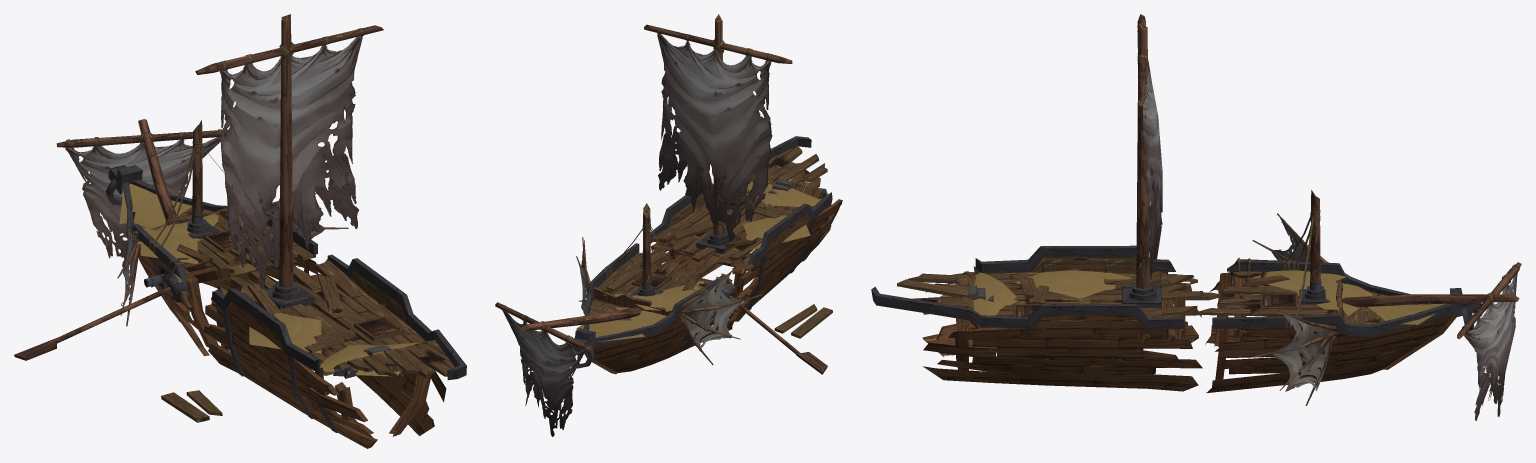
The model's file is 2_SM_Chuan_01.FBX.
3 renders of one model, left to right at view 1: azimuth 30°, elevation 25°; view 2: azimuth 150°, elevation 25°; view 3: azimuth 270°, elevation 25°, orthographic. The views are drawn at different scales.
Visible parts, largest first — view 1: 2_SM_Chuan_02, 2_SM_Chuan_03, 2_SM_Chuan_01, 2_SM_Chuan_10, 2_SM_Chuan_04, 2_SM_Chuan_06, 2_SM_Chuan_05, 2_SM_Chuan_11, 2_SM_Chuan_08, 2_SM_Chuan_12, 2_SM_Chuan_14; view 2: 2_SM_Chuan_03, 2_SM_Chuan_02, 2_SM_Chuan_01, 2_SM_Chuan_10, 2_SM_Chuan_08, 2_SM_Chuan_11, 2_SM_Chuan_06, 2_SM_Chuan_05, 2_SM_Chuan_14, 2_SM_Chuan_09, 2_SM_Chuan_13, 2_SM_Chuan_04; view 3: 2_SM_Chuan_02, 2_SM_Chuan_01, 2_SM_Chuan_10, 2_SM_Chuan_03, 2_SM_Chuan_09, 2_SM_Chuan_04, 2_SM_Chuan_11, 2_SM_Chuan_05, 2_SM_Chuan_08.
Part boxes in pixels (x1,y1,x2,y2): 2_SM_Chuan_02: (203,254,466,448); 2_SM_Chuan_03: (195,25,383,288); 2_SM_Chuan_01: (105,165,318,356); 2_SM_Chuan_10: (56,119,228,266); 2_SM_Chuan_04: (279,14,292,250); 2_SM_Chuan_06: (14,272,187,360); 2_SM_Chuan_05: (264,245,315,309); 2_SM_Chuan_11: (187,120,219,238); 2_SM_Chuan_08: (117,225,139,326); 2_SM_Chuan_12: (155,141,224,246); 2_SM_Chuan_14: (161,392,209,422); 2_SM_Chuan_03: (644,24,792,241); 2_SM_Chuan_02: (650,136,842,321); 2_SM_Chuan_01: (571,243,738,374); 2_SM_Chuan_10: (495,302,642,436); 2_SM_Chuan_08: (678,268,762,364); 2_SM_Chuan_11: (630,203,663,296); 2_SM_Chuan_06: (720,283,827,374); 2_SM_Chuan_05: (696,221,740,253); 2_SM_Chuan_14: (791,307,832,338); 2_SM_Chuan_09: (576,237,590,314); 2_SM_Chuan_13: (774,304,817,333); 2_SM_Chuan_04: (713,14,723,207); 2_SM_Chuan_02: (871,245,1220,391); 2_SM_Chuan_01: (1195,259,1481,393); 2_SM_Chuan_10: (1342,262,1521,420); 2_SM_Chuan_03: (1137,14,1162,281); 2_SM_Chuan_09: (1254,310,1338,405); 2_SM_Chuan_04: (1136,24,1149,255); 2_SM_Chuan_11: (1299,190,1330,304); 2_SM_Chuan_05: (1122,251,1161,307); 2_SM_Chuan_08: (1252,213,1335,273).
Bounding box in the file's own units: 2552 × 3075 × 4632.
4 materials, 4 textured.
